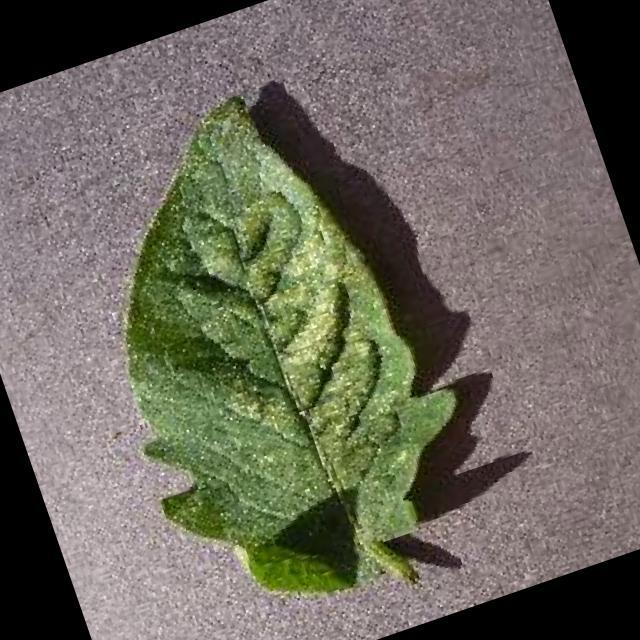Tomato spider mites leaf: (41, 58, 504, 636)
